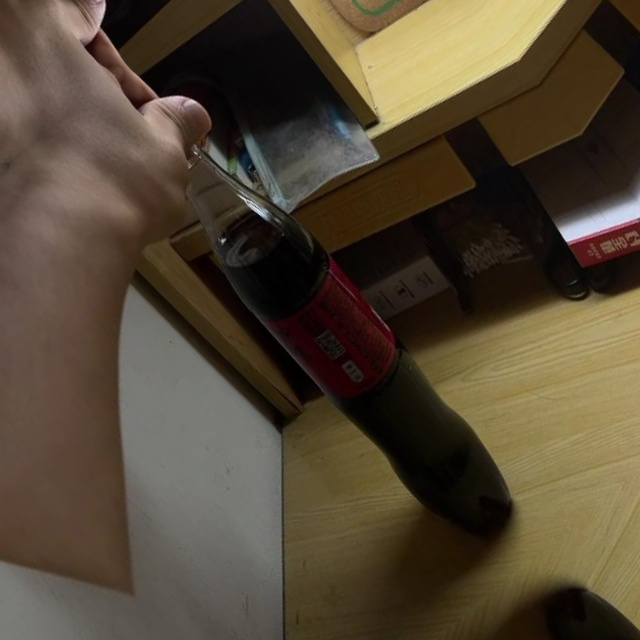Coca-Cola: (101, 71, 535, 562)
